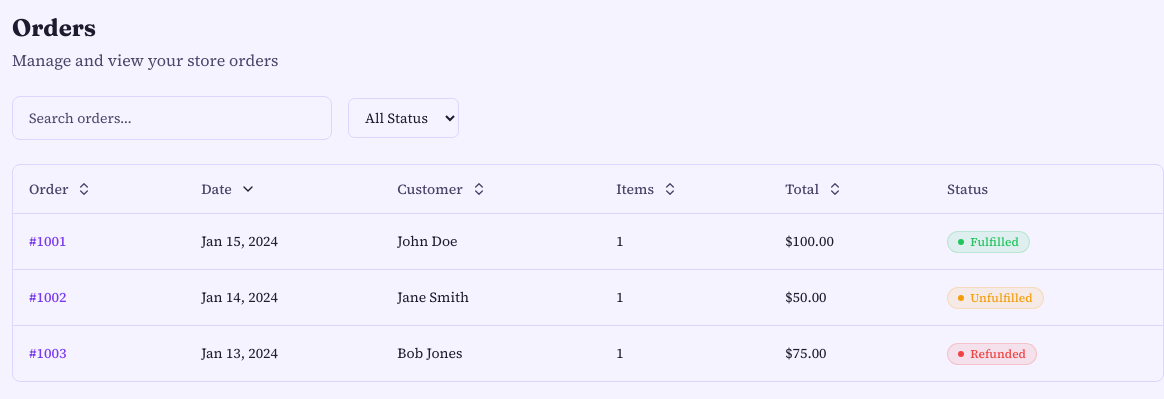
Test case: OrdersPage › filters orders by status
The width and height of the screenshot is (1164, 399).
Step 1. Select "Fulfilled" in the dropdown → {"x": 404, "y": 118}, box [348, 98, 459, 138]
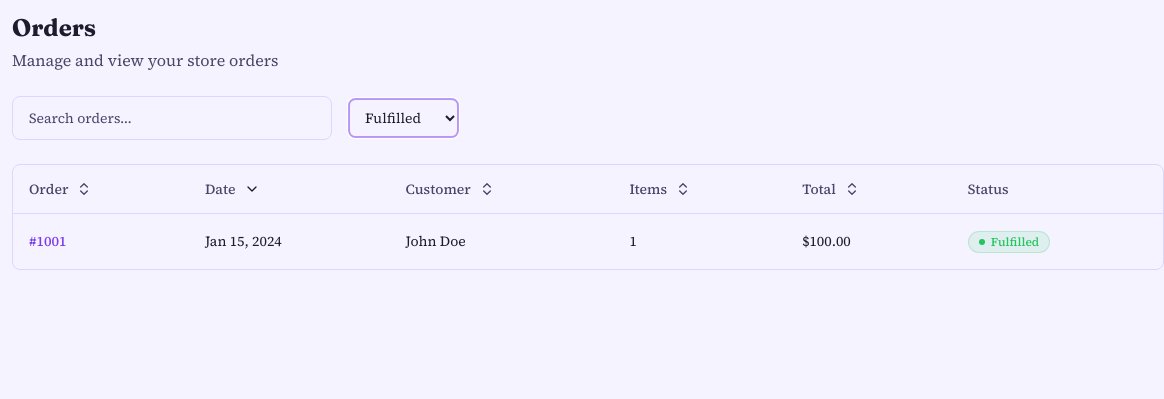
Expected: the link "#1001" is shown, [29, 231, 67, 251]
Now the link "#1002" is gone
